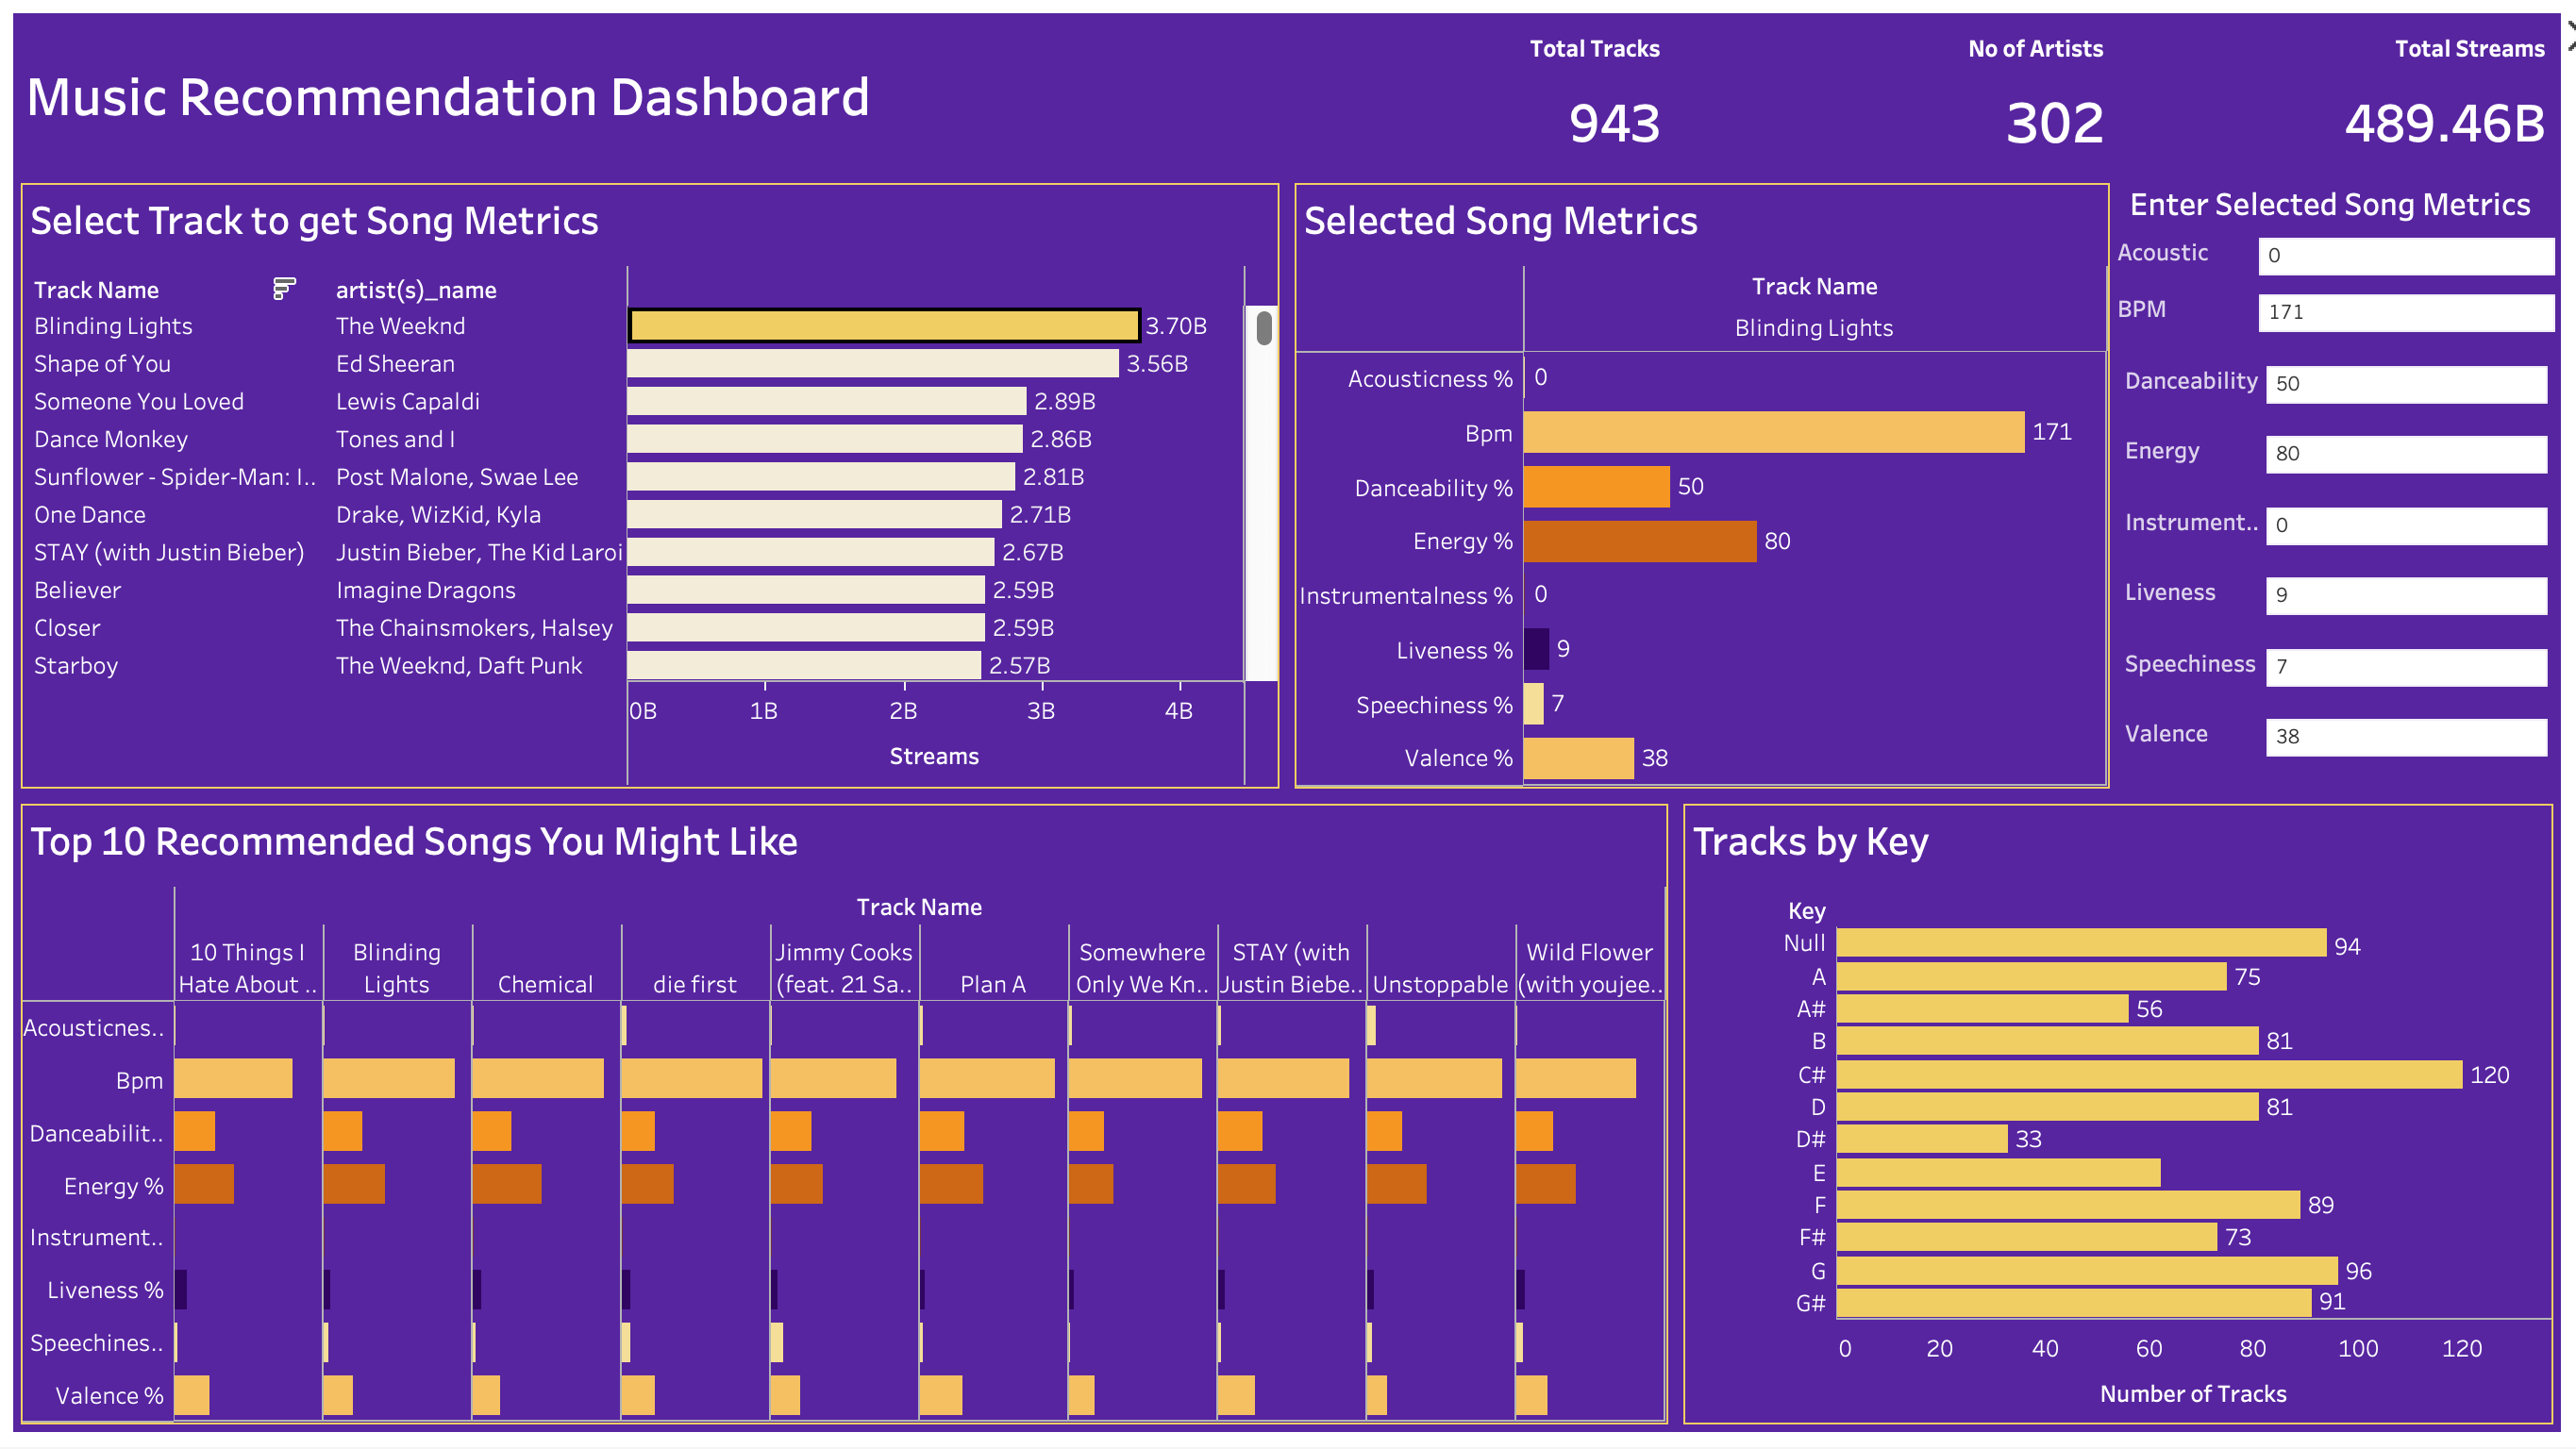

This screenshot's page, from the dashboard's own definition file:
{"tool":"tableau","page":{"name":"Dashboard 1","canvas":[1366,768],"ordinal":0},"visuals":[{"type":"text","box":[8,8,646,86]},{"type":"worksheet","title":"#Tracks","mark":"Automatic","cols":["Calculation_228979915554836484"],"box":[654,8,234.7,86]},{"type":"worksheet","title":"#Artists","mark":"Automatic","cols":["Calculation_228979915554680835"],"box":[888.7,8,234.7,86]},{"type":"worksheet","title":"#Streams","mark":"Automatic","cols":["Calculation_228979915553267714"],"box":[1123.3,8,234.7,86]},{"type":"worksheet","title":"TrackMetrics","mark":"Automatic","rows":["track_name","artist(s)_name"],"cols":["streams"],"box":[8,94,675,329.1]},{"type":"worksheet","title":"SongMetrics","mark":"Automatic","cols":["track_name"],"box":[683,94,440,329.1]},{"type":"text","box":[1123,94,235,30]},{"type":"parameter","param":"[Parameters].[Parameter 1]","box":[1123,124,235,30]},{"type":"parameter","param":"[Parameters].[Parameter 2]","box":[1123,154,235,34]},{"type":"parameter","param":"[Parameters].[Parameter 3]","box":[1123,188,235,37]},{"type":"parameter","param":"[Parameters].[Parameter 4]","box":[1123,225,235,38]},{"type":"parameter","param":"[Parameters].[Parameter 5]","box":[1123,263,235,37]},{"type":"parameter","param":"[Parameters].[Parameter 7]","box":[1123,300,235,38]},{"type":"parameter","param":"[Parameters].[Parameter 6]","box":[1123,338,235,37]},{"type":"parameter","param":"[Parameters].[Parameter 8]","box":[1123,375,235,37]},{"type":"worksheet","title":"SimilarSongs","mark":"Automatic","cols":["track_name"],"box":[8,423.1,881,336.9]},{"type":"worksheet","title":"KeyBar","mark":"Automatic","rows":["key"],"cols":["track_name"],"box":[889,423.1,469,336.9]}]}

Visuals, with their boxes in screenshot pixels (x1, y1, x2, y2), scaled from the page's 1366x768 canvas onto the 2576x1449 screenshot:
text: 15, 15, 1233, 177
"#Tracks" worksheet: 1233, 15, 1676, 177
"#Artists" worksheet: 1676, 15, 2118, 177
"#Streams" worksheet: 2118, 15, 2561, 177
"TrackMetrics" worksheet: 15, 177, 1288, 798
"SongMetrics" worksheet: 1288, 177, 2117, 798
text: 2117, 177, 2561, 234
parameter: 2117, 234, 2561, 291
parameter: 2117, 291, 2561, 355
parameter: 2117, 355, 2561, 425
parameter: 2117, 425, 2561, 496
parameter: 2117, 496, 2561, 566
parameter: 2117, 566, 2561, 638
parameter: 2117, 638, 2561, 708
parameter: 2117, 708, 2561, 777
"SimilarSongs" worksheet: 15, 798, 1677, 1434
"KeyBar" worksheet: 1677, 798, 2561, 1434
